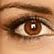eye: (25, 21, 41, 35)
